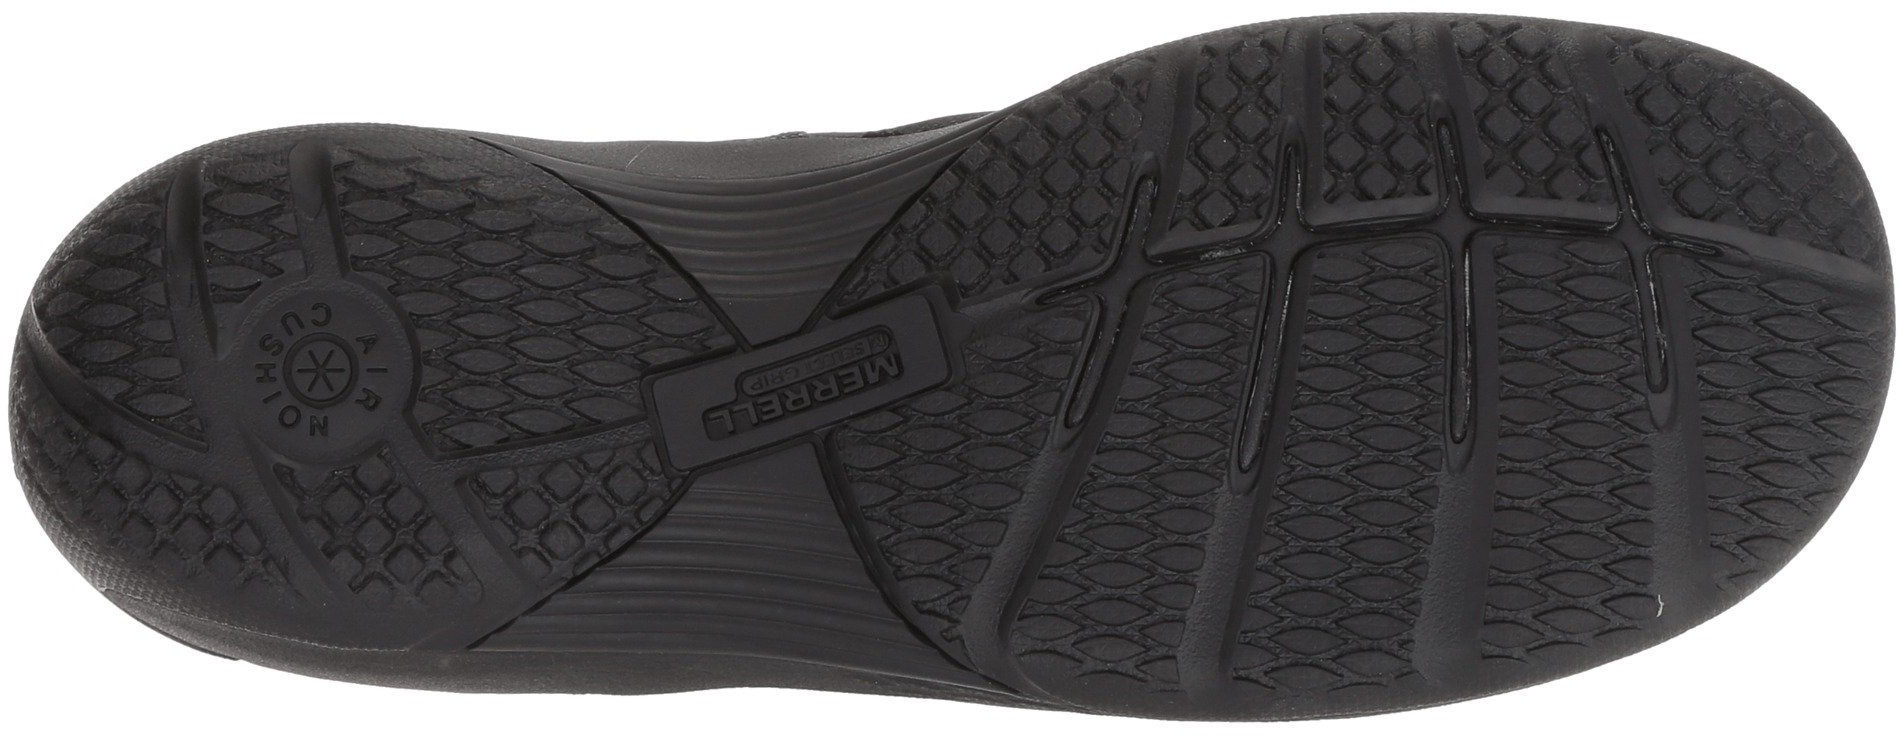other: (664, 499, 839, 649)
quad: (1360, 23, 1545, 174), (1662, 94, 1821, 230), (974, 137, 1120, 268)
text: (238, 302, 392, 438)
